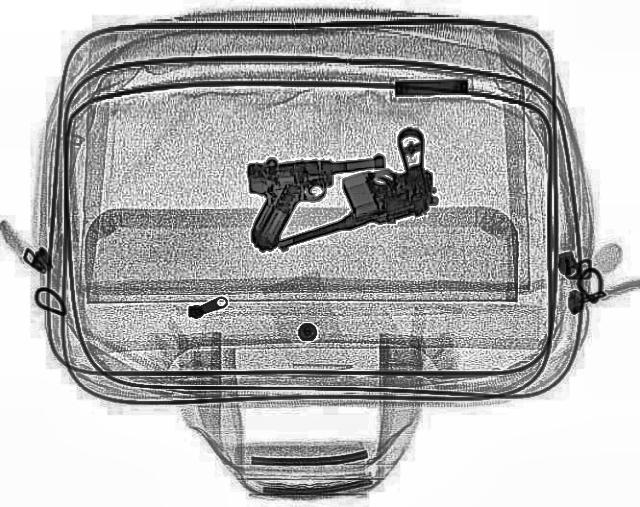Gun: (241, 124, 461, 252), (242, 150, 394, 248)
